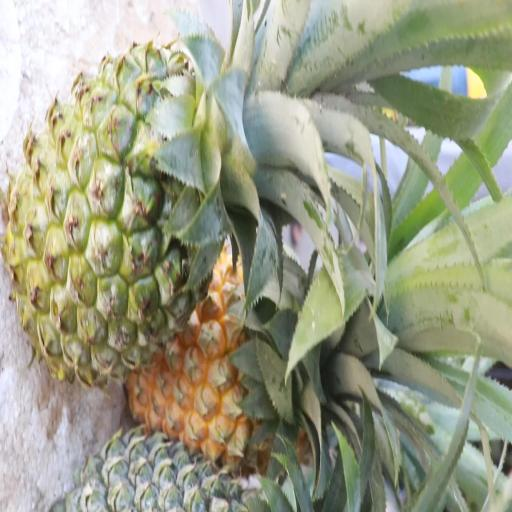------------------------------: (14, 56, 244, 377)
Pineapple - v8 v1: (126, 246, 313, 455)
